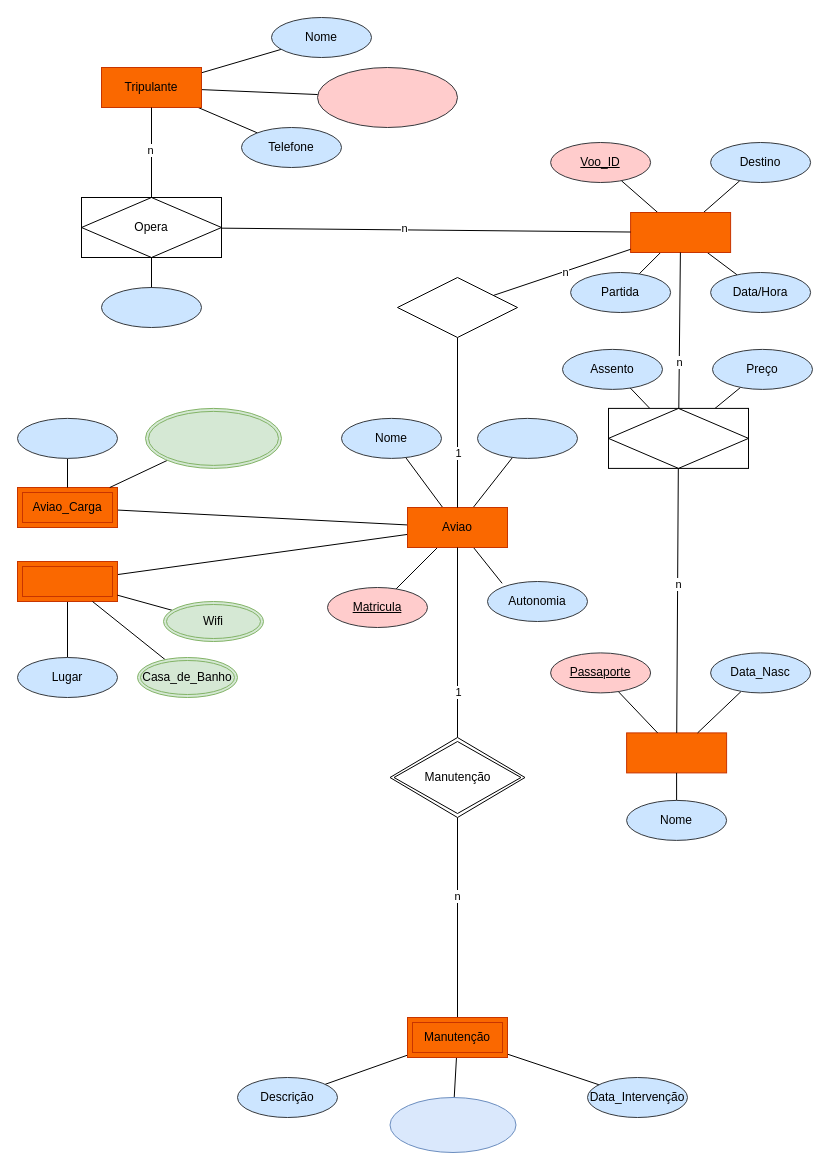
Some shapes in this 830 by 1170 pixel diagram are drawn without their labels. Here are the shapes that lost their labels. From the top down, the centre of each, then its label:
the point at 387,97: Numero_Mecanografico
the point at 680,232: Voo
the point at 151,307: Função
the point at 457,307: Realiza
the point at 67,437: Capacidade
the point at 213,437: Controle_Temperatura
the point at 527,437: Marca
the point at 678,437: Viaja
the point at 67,581: Aviao_passageiro
the point at 676,752: Passageiro
the point at 452,1124: Numero_Sequencial
